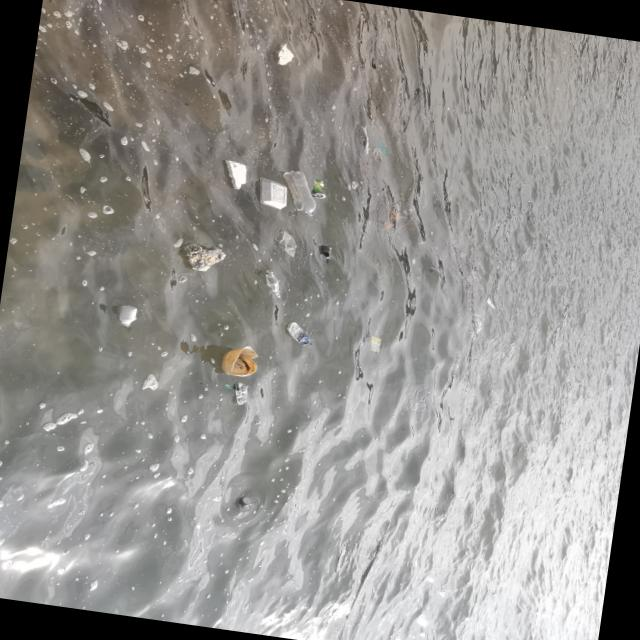can: (308, 178, 328, 200), (238, 495, 253, 508)
foam: (178, 240, 228, 276), (253, 175, 288, 211), (218, 158, 248, 191), (273, 42, 296, 68)
plastic: (276, 170, 320, 216), (281, 322, 314, 348), (256, 269, 282, 296), (228, 381, 250, 406), (116, 303, 137, 328), (318, 244, 332, 264)
plastic bottle: (216, 344, 260, 379), (368, 334, 382, 353)
unknow: (272, 228, 300, 258), (382, 207, 408, 230), (356, 125, 374, 155), (377, 138, 392, 158)
